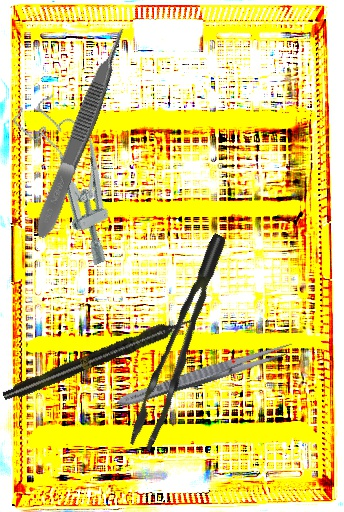Dressing Forceps: (114, 338, 296, 412)
Handpiece: (0, 312, 196, 405)
Speculum: (8, 85, 141, 272)
Tissue Forceps: (108, 232, 255, 454), (29, 25, 135, 241)
